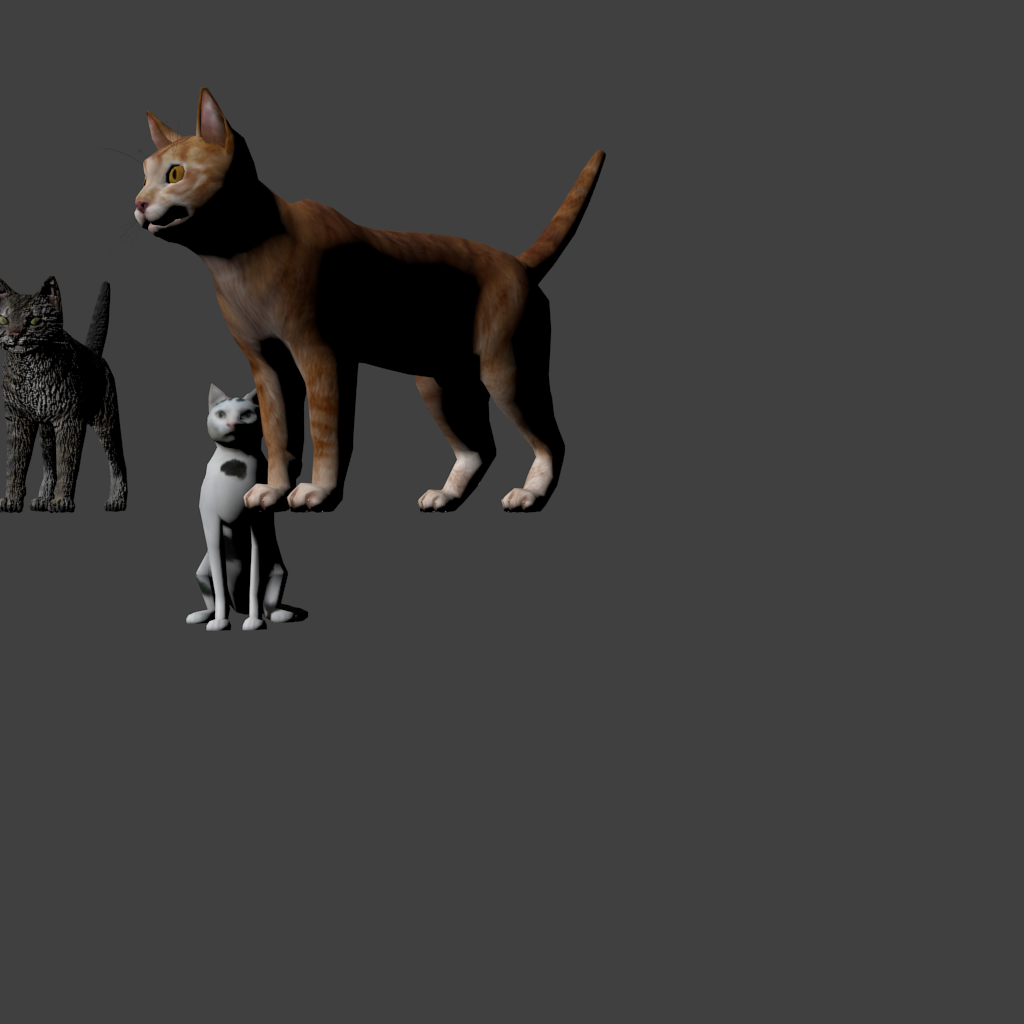Cat: (93, 87, 513, 426)
